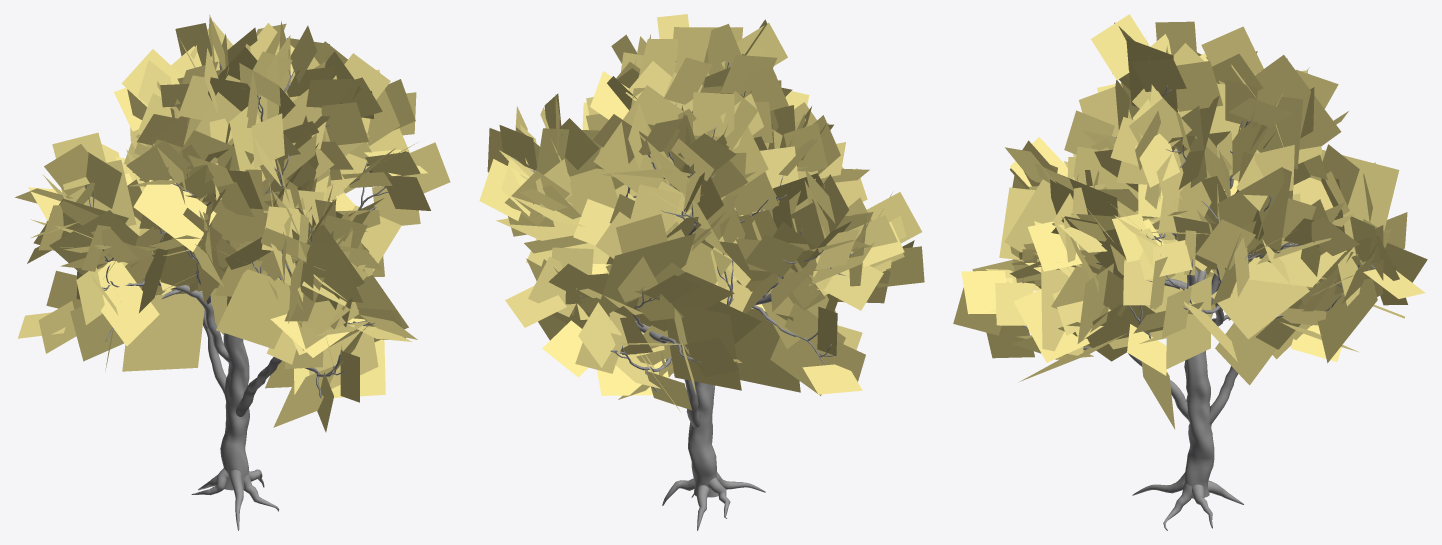
File: deadtree_03_LOD0.FBX
The picture shows the model from 3 angles, left to right: view 1: azimuth 30°, elevation 25°; view 2: azimuth 150°, elevation 25°; view 3: azimuth 270°, elevation 25°; orthographic projection. The views are drawn at different scales.
Visible parts, largest first — view 1: Object001; view 2: Object001; view 3: Object001.
Boxes of the visible parts, <box> form: Object001: <box>14,14,450,530</box>; Object001: <box>479,14,924,530</box>; Object001: <box>953,14,1427,530</box>.
Bounding box in the file's own units: 20.86 × 23.64 × 20.8.
